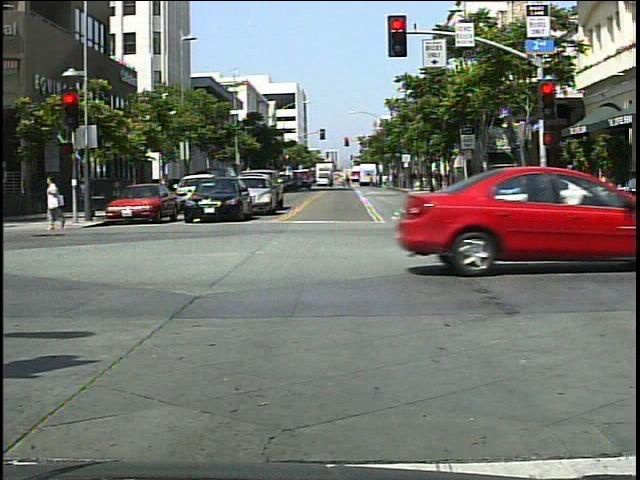person: (40, 170, 72, 234), (559, 161, 581, 212)
